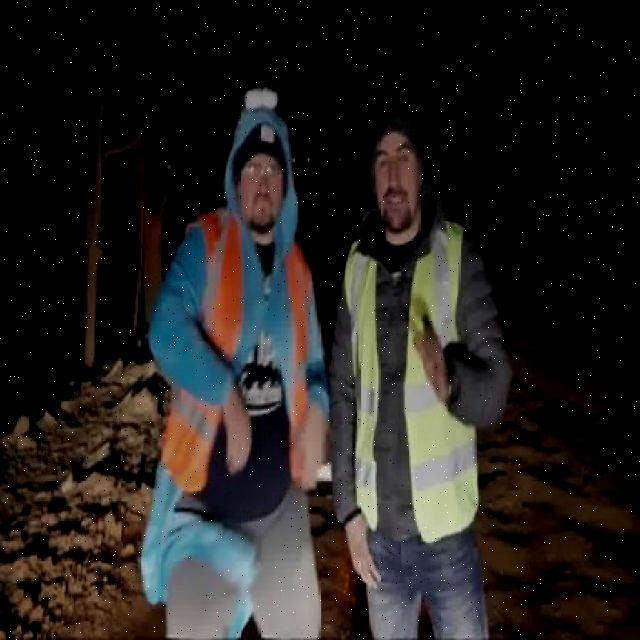Mask: (159, 207, 312, 496), (343, 222, 479, 546)
